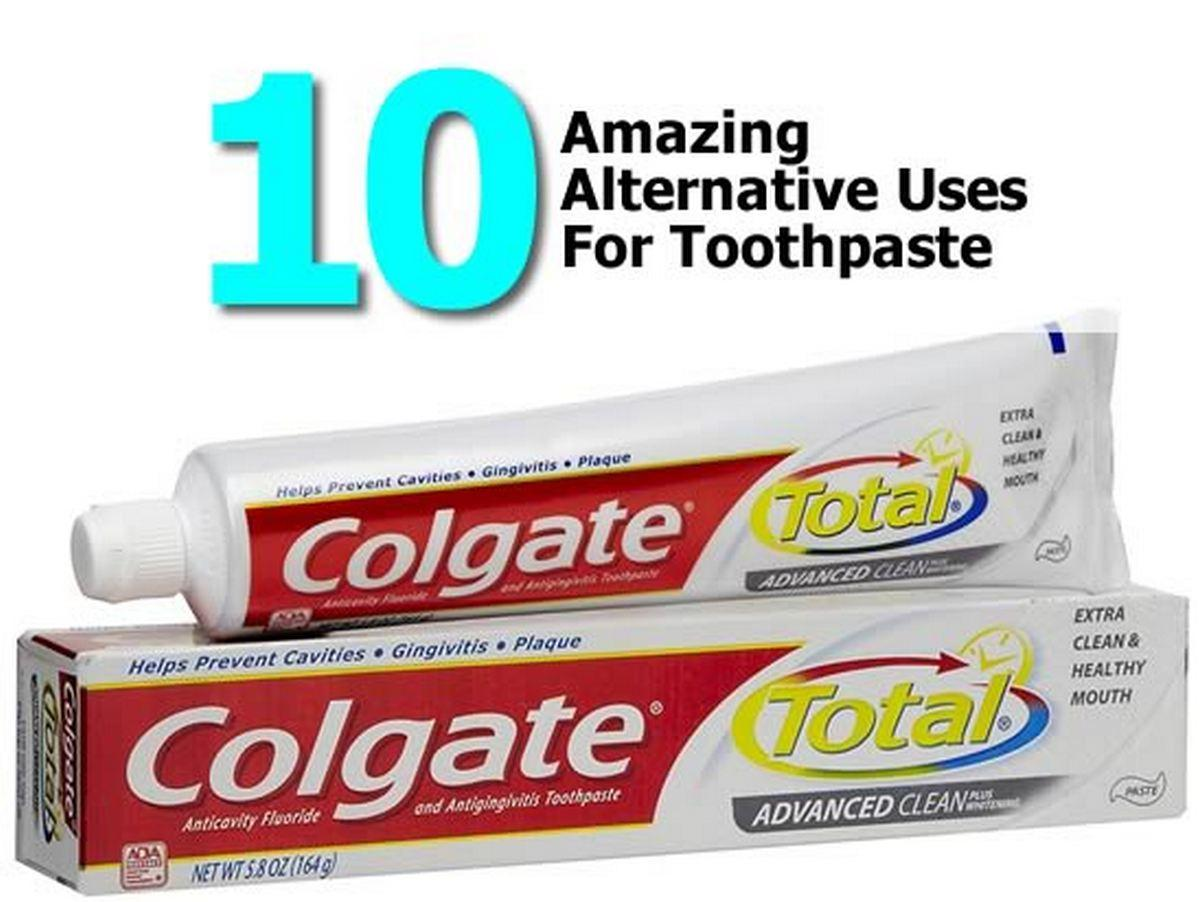toothpaste: (1, 579, 1200, 901), (43, 305, 1141, 649)
